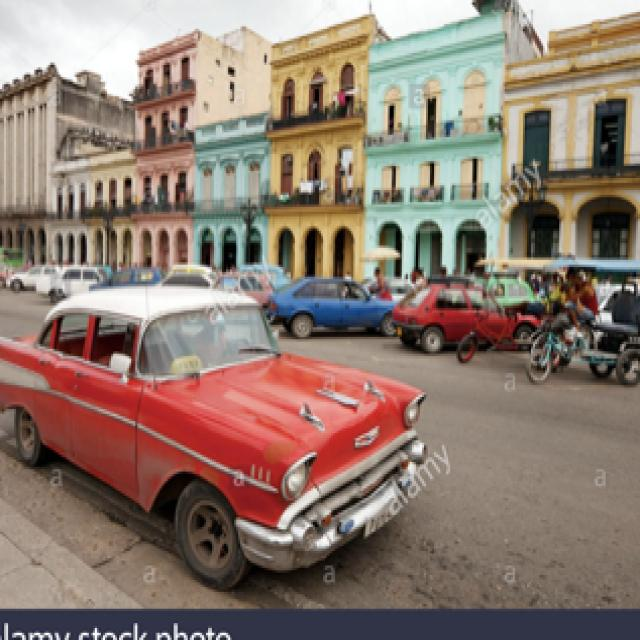license_plate: (369, 491, 402, 544)
